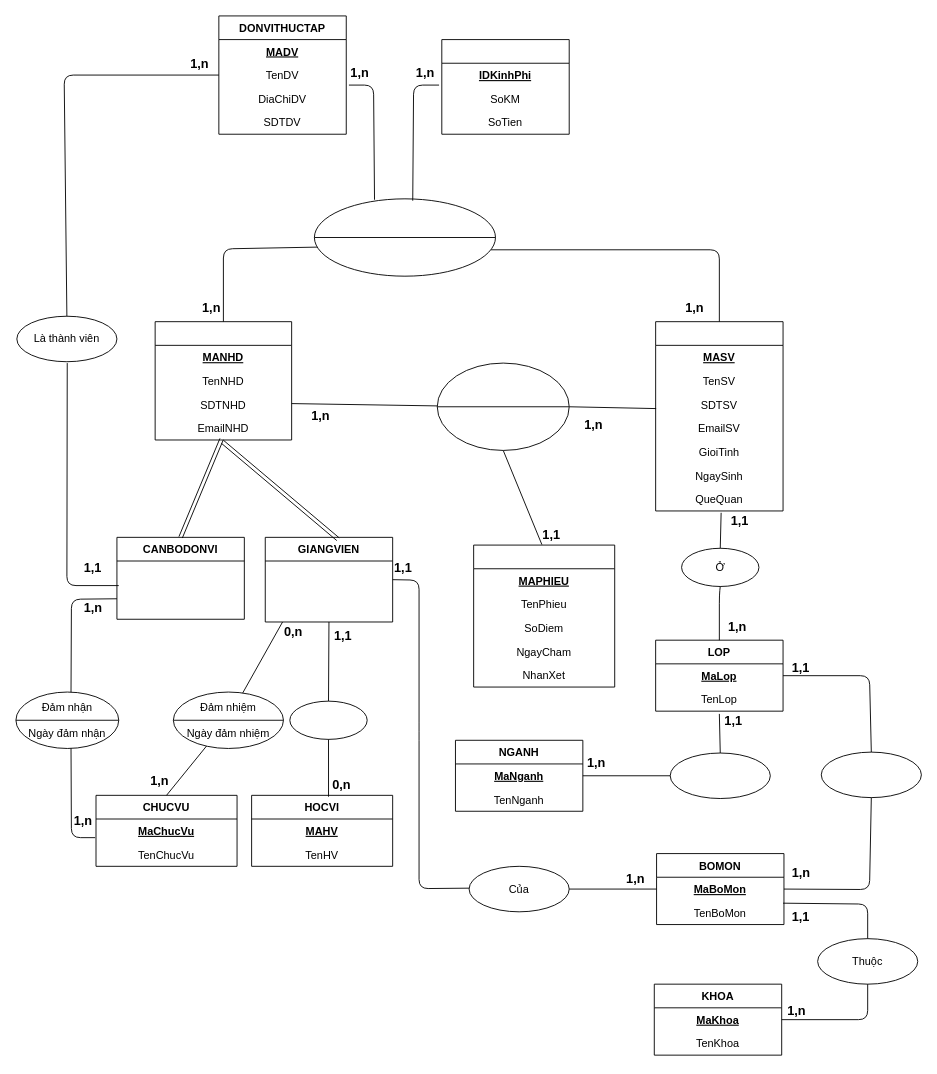
The diagram is 937 pixels wide and 1074 high, and some of its shapes have lost their labels. The shapes that lost their labels are listed below. From the top down, each one's box as (x1, y1, x2, y2) in pixels, then its label:
(441, 39, 569, 134): KINHPHIHOTRO
(313, 198, 495, 276): Thực Tập Ngày bắt đầu thực tập
(154, 321, 292, 440): NGUOIHUONGDAN
(436, 362, 569, 450): Chấm điểm Ngày kết thúc thực tập
(655, 321, 783, 511): SINHVIEN
(473, 544, 615, 687): PHIEUCHAM
(289, 700, 367, 739): Có
(669, 752, 770, 799): Nằm trong
(820, 751, 921, 798): Gồm
